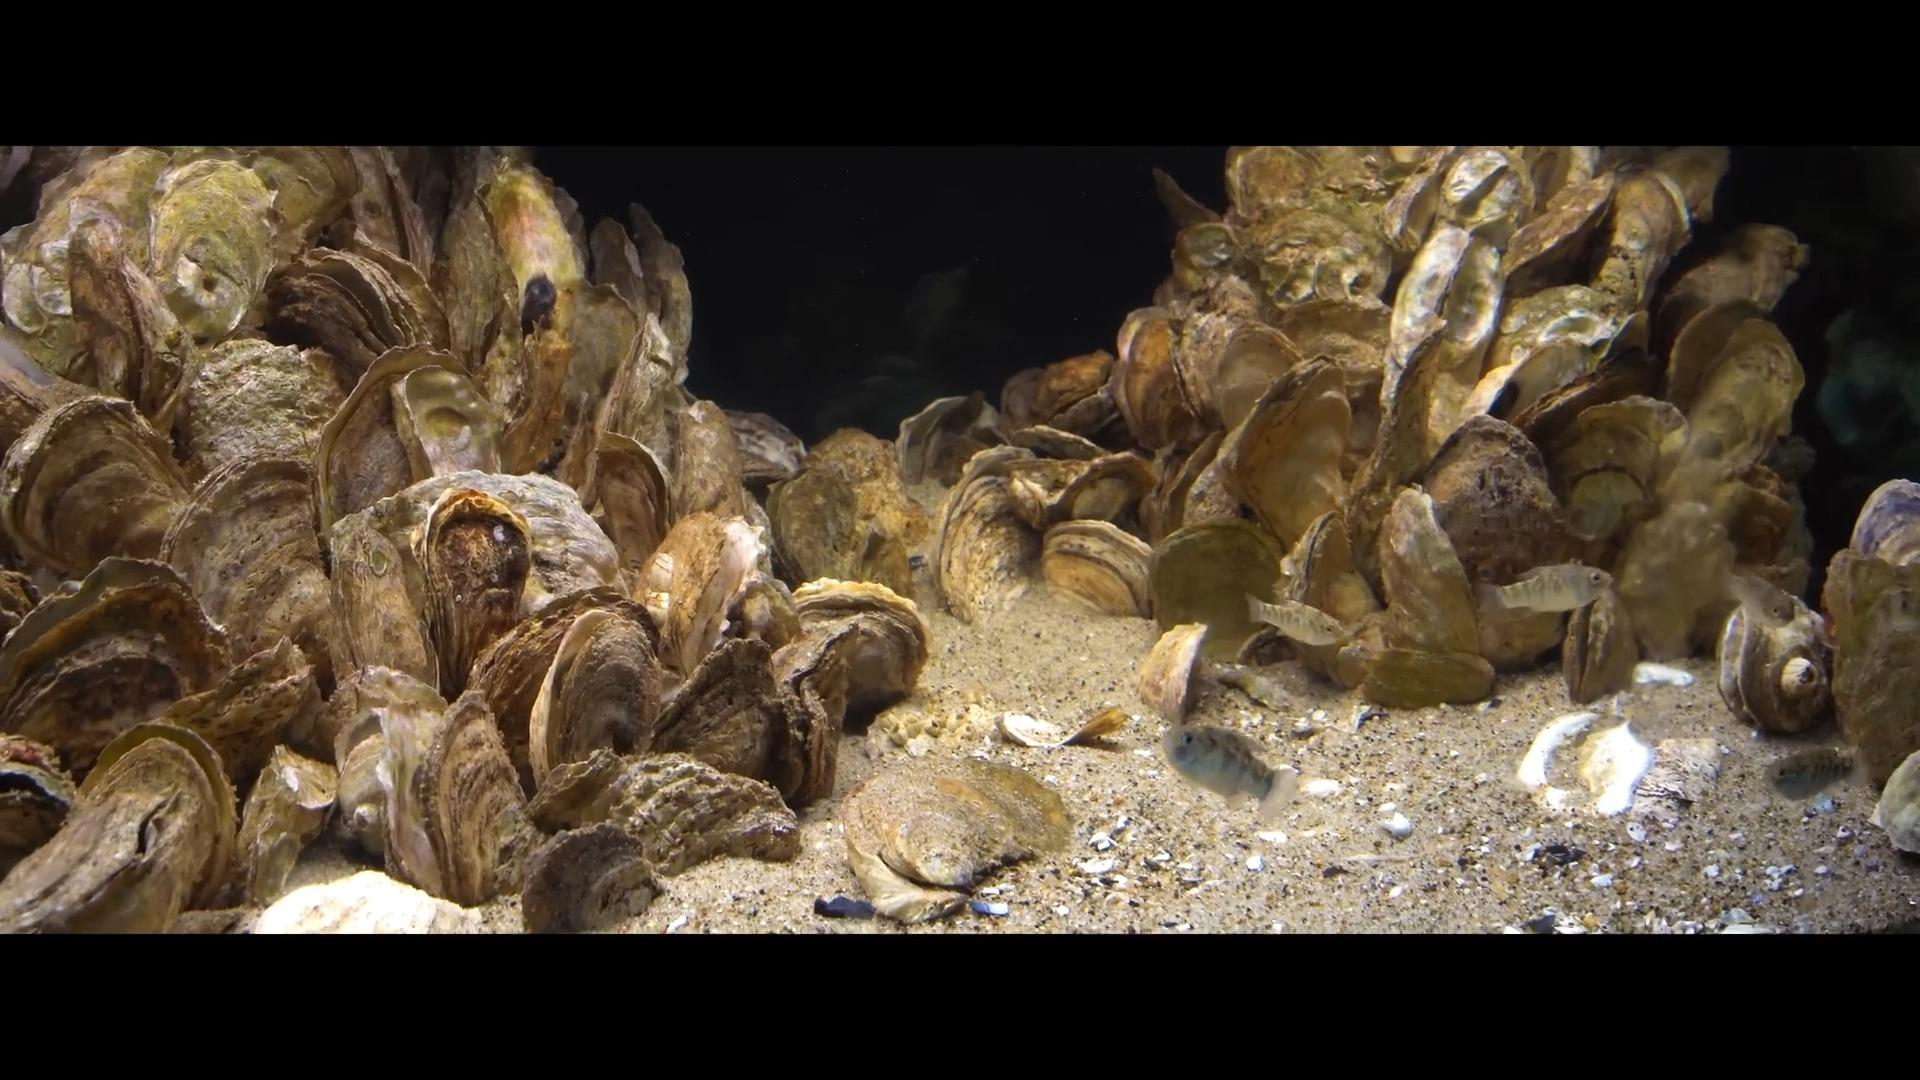Oyster: (3, 555, 232, 787), (157, 447, 342, 690), (0, 388, 193, 585), (841, 760, 1072, 922), (538, 746, 802, 887), (45, 727, 233, 920), (1404, 413, 1578, 599), (330, 663, 463, 895), (770, 430, 936, 609), (645, 625, 814, 800), (1222, 353, 1360, 560), (144, 157, 284, 349), (774, 608, 922, 786), (419, 687, 541, 903), (174, 332, 348, 480), (630, 506, 769, 682), (1364, 315, 1487, 506), (65, 218, 175, 429), (1665, 313, 1804, 480), (419, 483, 530, 690), (531, 608, 657, 787), (327, 502, 442, 695), (1610, 496, 1742, 663), (1472, 282, 1629, 418), (1535, 392, 1679, 539), (438, 154, 526, 390), (1168, 295, 1302, 446), (1149, 520, 1296, 653), (1718, 570, 1836, 732), (934, 447, 1040, 622), (264, 256, 413, 381), (1236, 202, 1390, 320), (231, 742, 340, 907), (578, 298, 669, 495), (1280, 512, 1383, 679), (1659, 220, 1811, 332), (1381, 222, 1477, 396), (1585, 166, 1691, 324), (248, 868, 481, 934), (576, 429, 673, 588), (388, 356, 506, 485), (524, 824, 665, 932), (1501, 167, 1621, 294), (219, 146, 352, 260), (328, 144, 431, 281), (491, 323, 574, 483), (663, 393, 752, 530), (1038, 518, 1154, 620), (628, 195, 691, 378), (1714, 464, 1808, 585), (1113, 309, 1191, 451), (1561, 571, 1640, 703), (1271, 299, 1395, 382), (901, 389, 1002, 484), (0, 732, 75, 858), (1433, 146, 1528, 243), (1575, 711, 1659, 819), (1348, 646, 1491, 709), (332, 727, 397, 861), (1044, 450, 1155, 527), (894, 686, 1013, 757), (1018, 351, 1117, 434), (1135, 622, 1211, 727), (1378, 156, 1451, 253), (723, 407, 808, 487), (1230, 145, 1316, 219), (1850, 477, 1920, 564), (1166, 218, 1237, 301), (1006, 704, 1127, 752), (1767, 746, 1861, 803), (1873, 746, 1920, 857), (1211, 662, 1305, 715), (1153, 165, 1218, 239), (1005, 468, 1058, 527)
